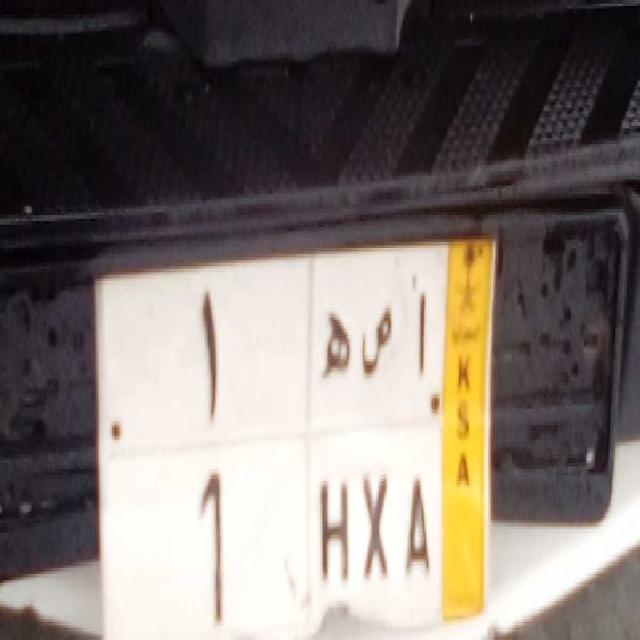license_plate: (101, 431, 441, 640)
